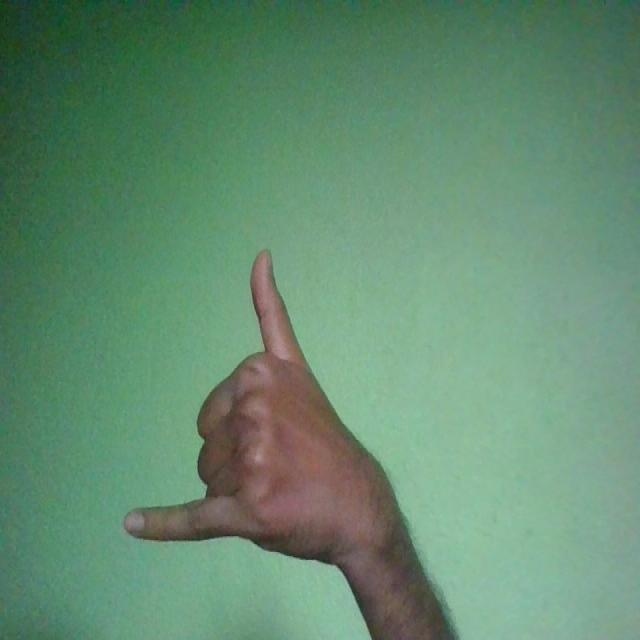Call Me: (122, 249, 408, 562)
